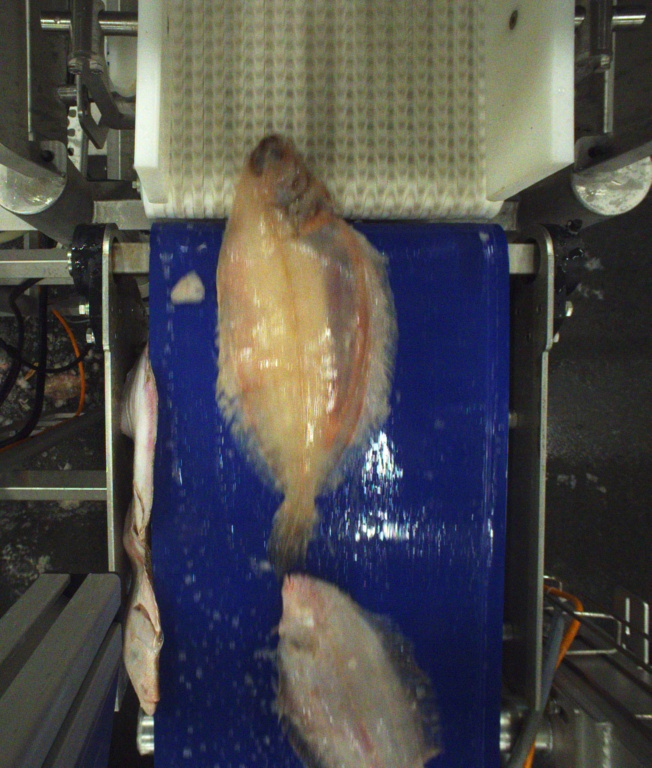WIT: (212, 131, 399, 567)
